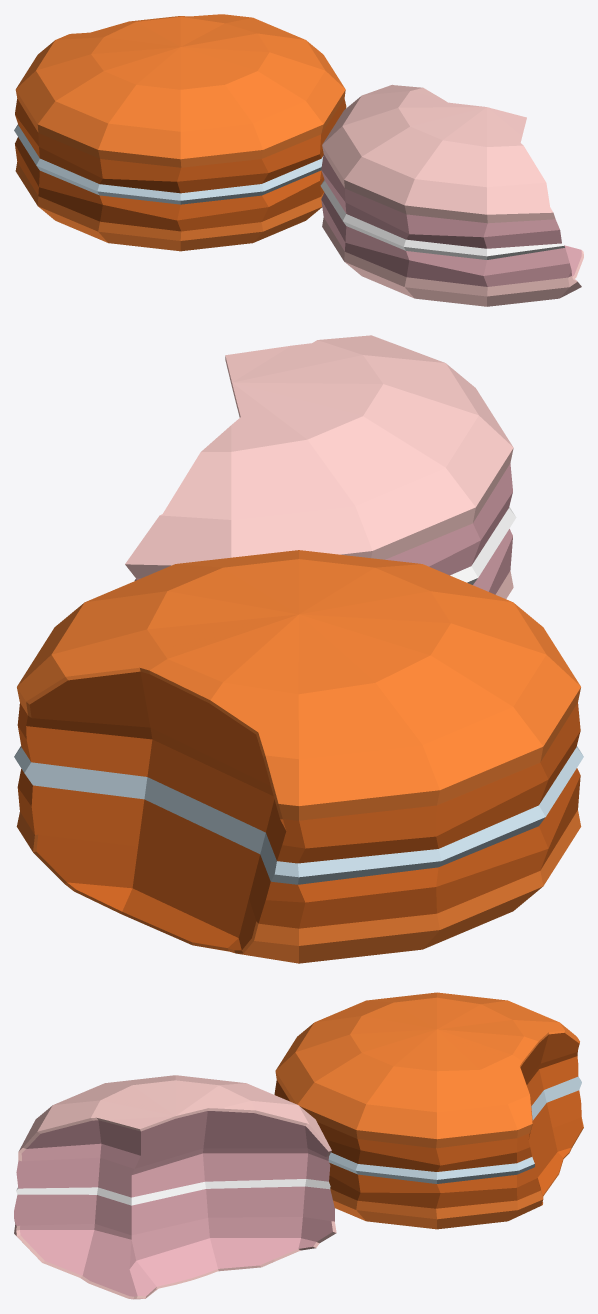
The model's file is MakaronState3.fbx.
3 renders of one model, top to bottom at view 1: azimuth 30°, elevation 25°; view 2: azimuth 150°, elevation 25°; view 3: azimuth 270°, elevation 25°, orthographic. The views are drawn at different scales.
Visible parts, largest first — view 1: MakaronState3; view 2: MakaronState3; view 3: MakaronState3.
Part boxes in pixels (x1,y1,x2,y2): MakaronState3: (14,14,583,306); MakaronState3: (14,335,583,963); MakaronState3: (14,992,583,1299).
Bounding box in the file's own units: 76.77 × 31.03 × 98.25.
